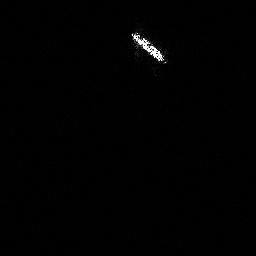ship: (130, 30, 167, 66)
